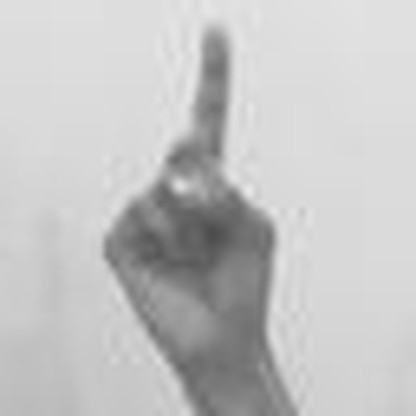d: (97, 14, 285, 346)
